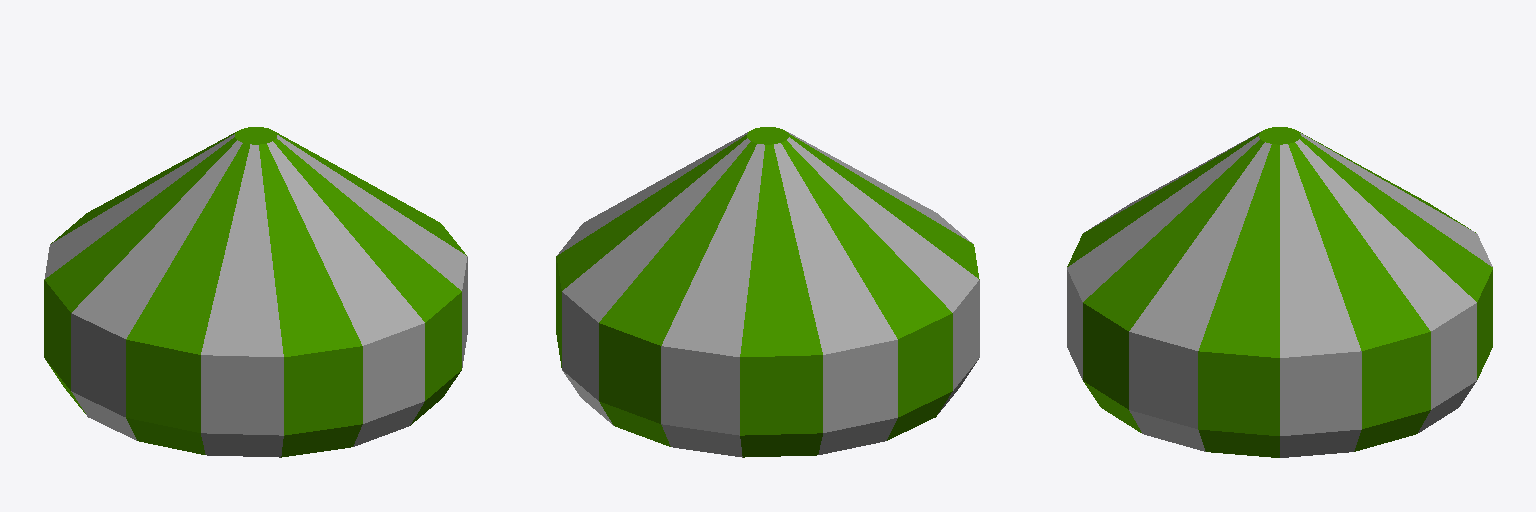
File: diamondLightGreen.obj
3 views of the same model, side by side, from view 1: azimuth 30°, elevation 25°; view 2: azimuth 150°, elevation 25°; view 3: azimuth 270°, elevation 25° (orthographic).
Parts seen in each view (by area): view 1: Mesh1 Model; view 2: Mesh1 Model; view 3: Mesh1 Model.
Part boxes in pixels (bbox=[...]): Mesh1 Model: bbox=[44, 127, 467, 457]; Mesh1 Model: bbox=[556, 127, 979, 457]; Mesh1 Model: bbox=[1067, 127, 1492, 457].
Size of the model in its own units: 3.22 by 2 by 3.22.